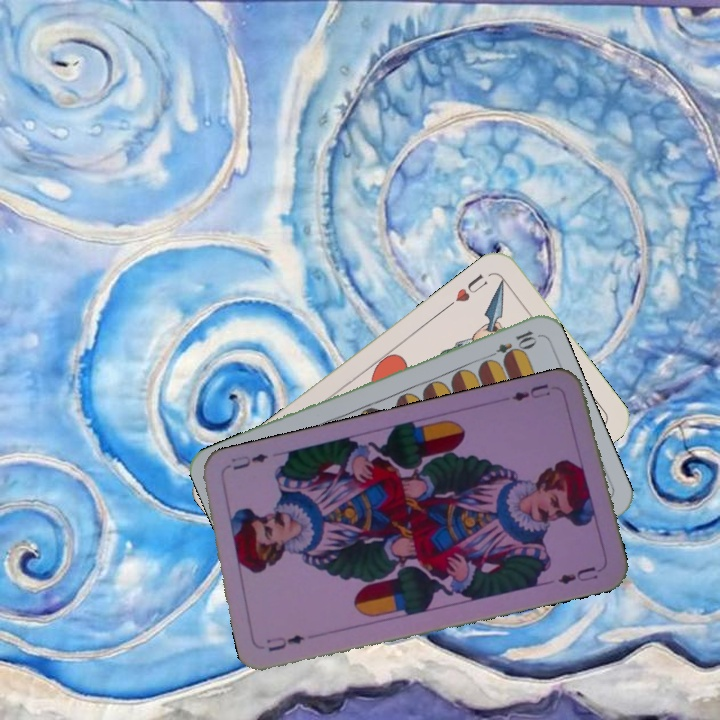E10: (482, 326, 539, 363)
EU: (508, 379, 553, 404), (262, 631, 307, 654)
HU: (443, 269, 491, 311)
